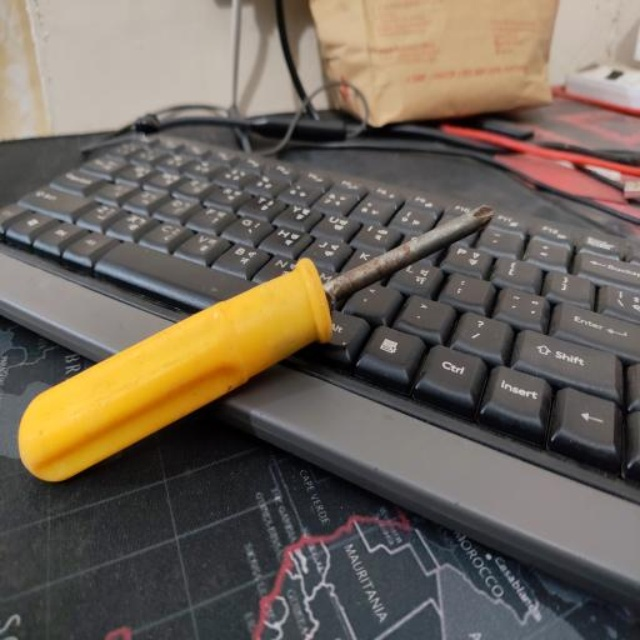screwdriver: (14, 198, 497, 488)
